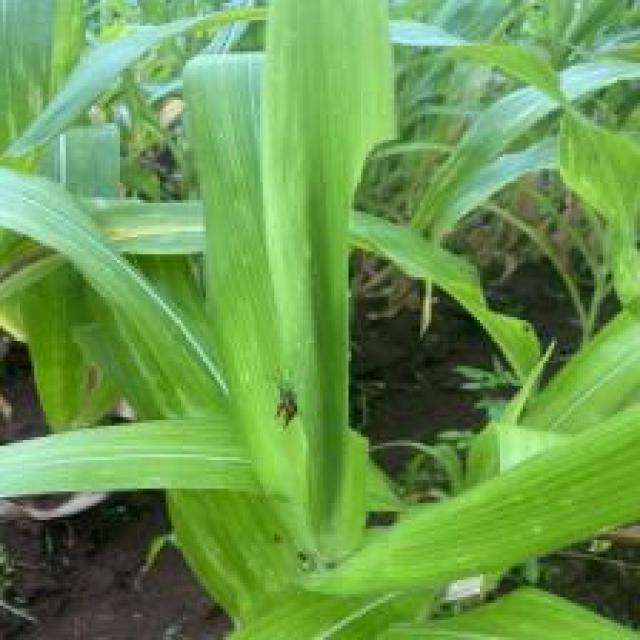Plaga: (262, 378, 317, 453)
